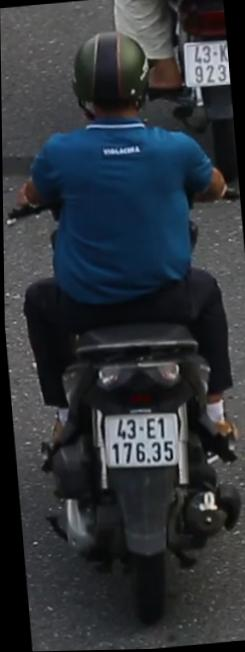LP: (93, 402, 186, 488)
helmet: (68, 21, 155, 120)
